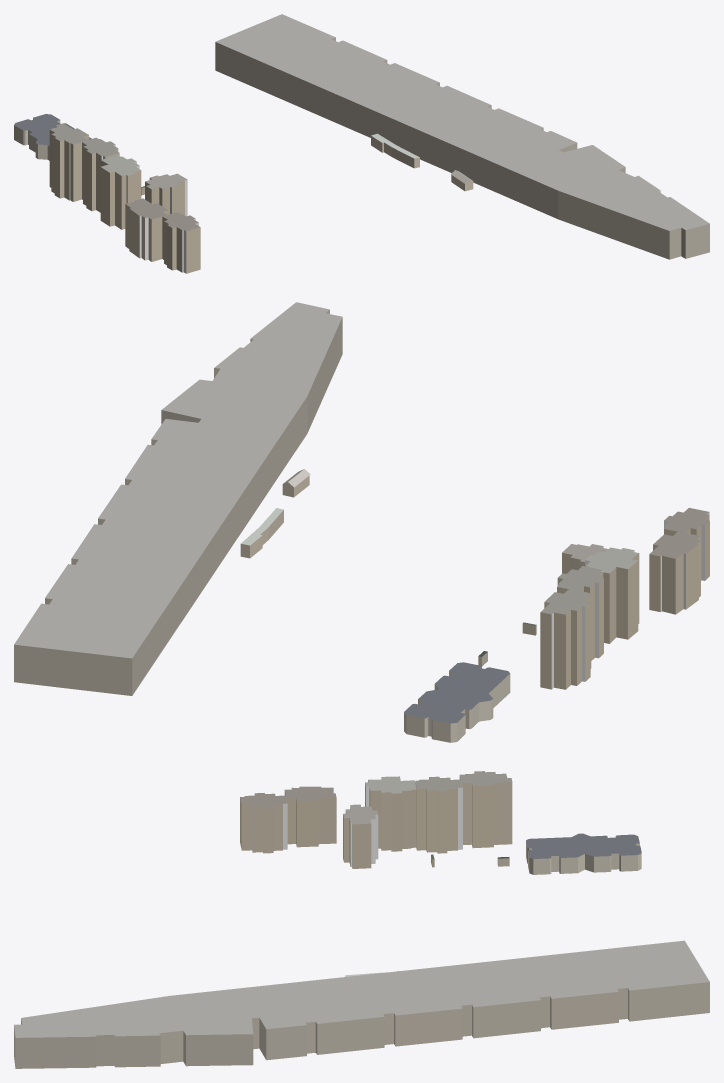
3 views of the same model, one above another, from view 1: azimuth 30°, elevation 25°; view 2: azimuth 150°, elevation 25°; view 3: azimuth 270°, elevation 25° (orthographic). The views are drawn at different scales.
Visible parts, largest first — view 1: tuile; view 2: tuile; view 3: tuile.
Part boxes in pixels (x1,y1,x2,y2): tuile: (14,14,709,273); tuile: (14,302,709,742); tuile: (14,771,709,1068).
Bounding box in the file's own units: 306 × 41.41 × 389.
